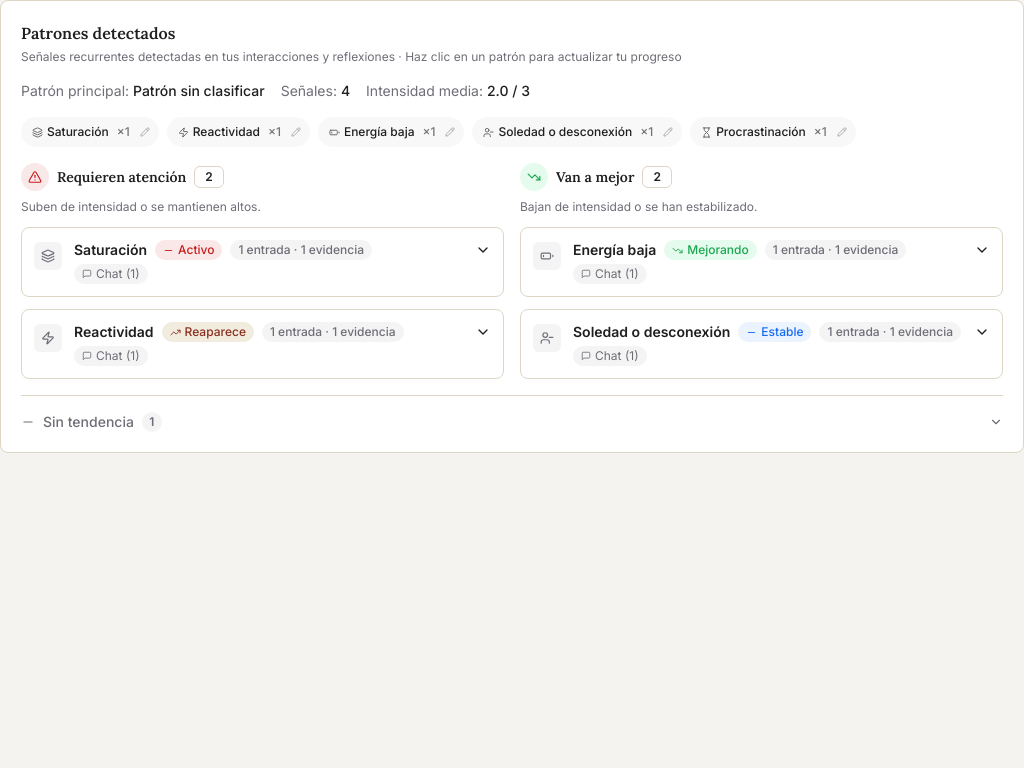
Test: DetectedPatternsPanel › trend columns › untrended patterns stay out of the DOM until the section is opened
Click the button "Sin tendencia 1" at point(88, 422), box x1=21 y1=412 x2=1003 y2=432
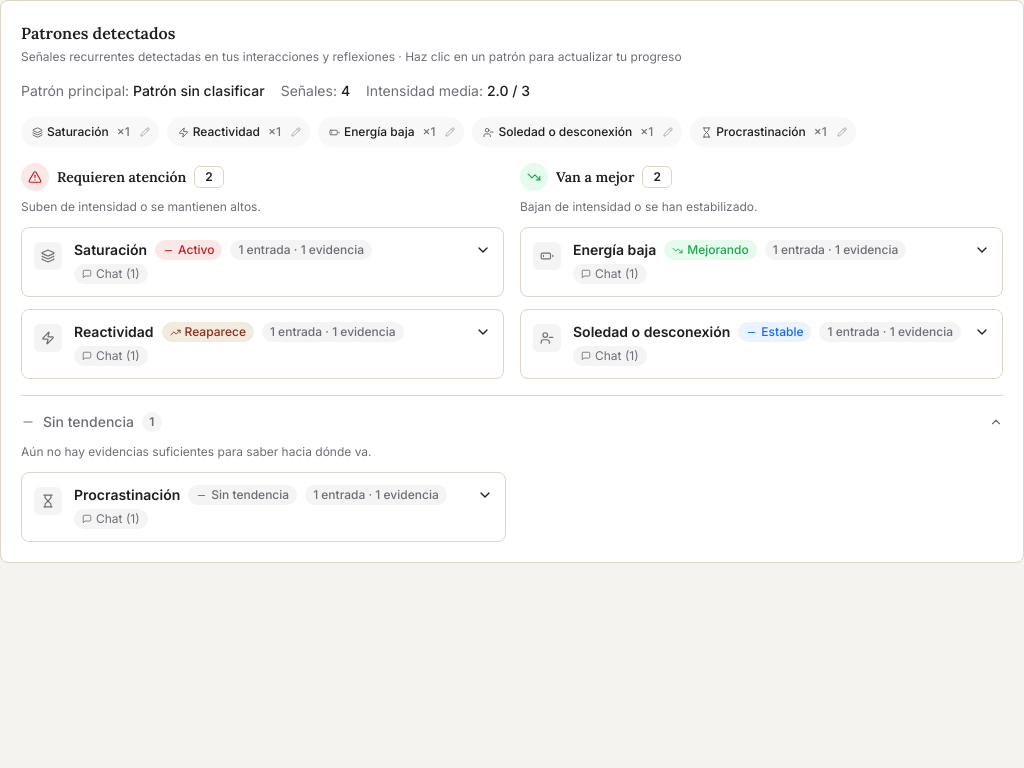
Result: the element with test id "detected-pattern-group-procrastination" is shown at x1=21 y1=472 x2=506 y2=542
